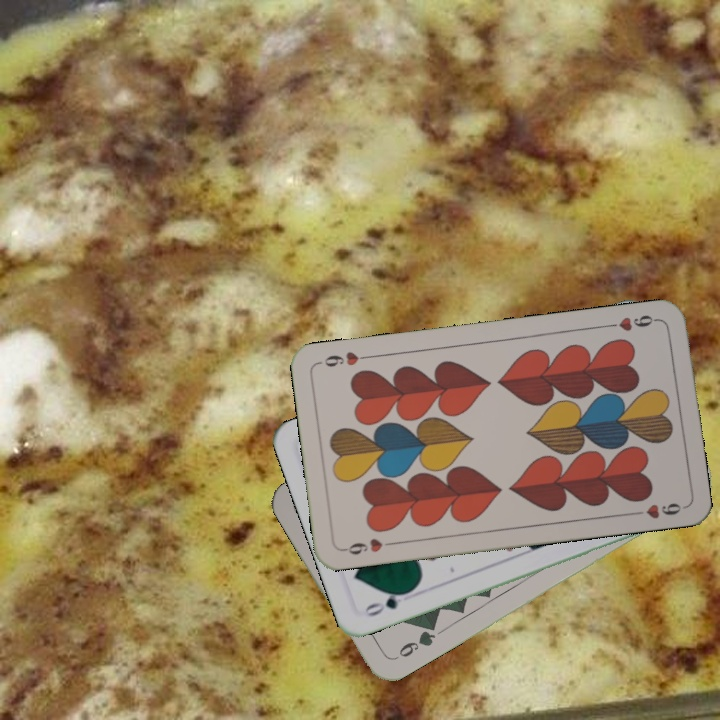G9: (388, 623, 438, 663)
GO: (360, 586, 415, 620)
H9: (339, 534, 398, 558), (603, 311, 662, 334)
